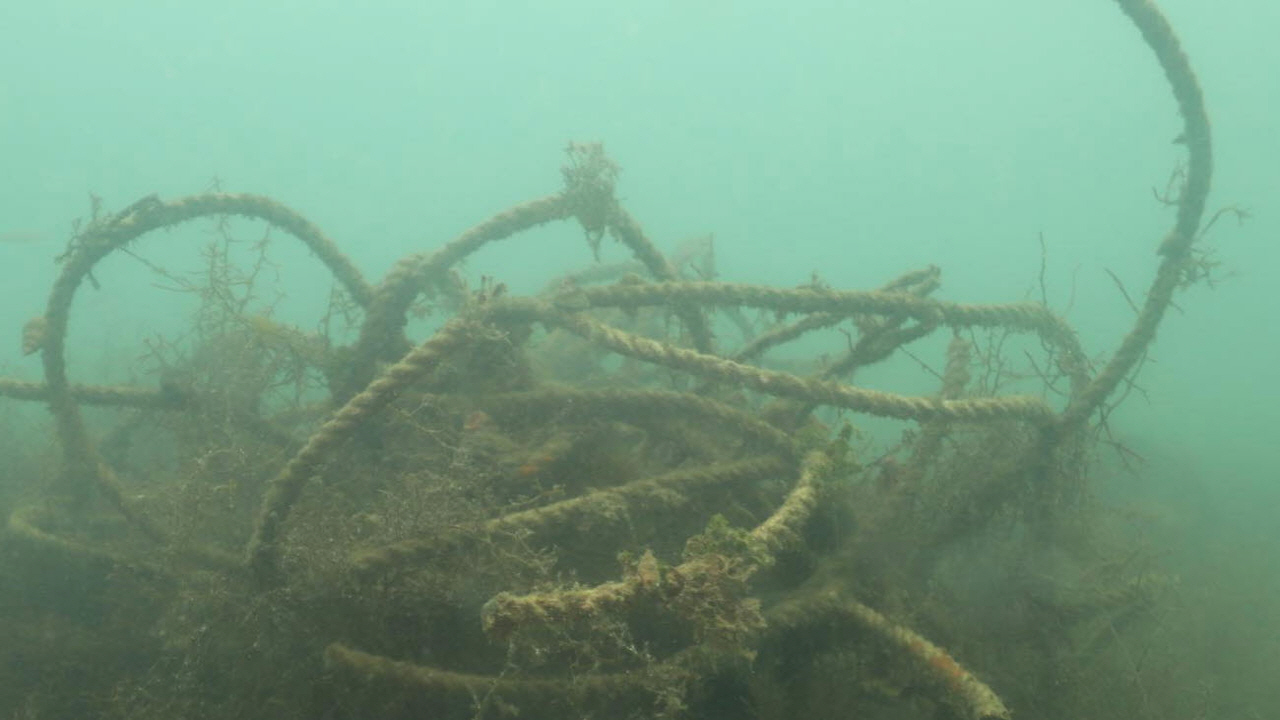bundle of ropes: (0, 0, 1221, 720)
